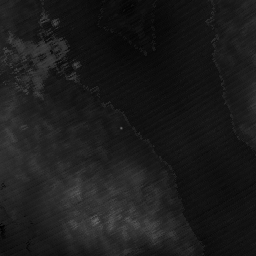Target: (118, 125, 124, 130)
